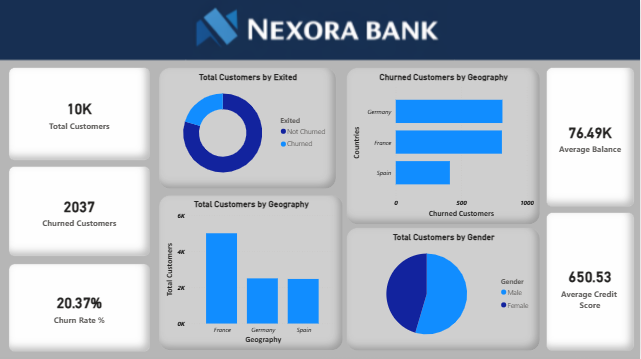

The page's visual inventory and layout, read from the dashboard file:
{"tool":"powerbi","page":{"name":"Overview","canvas":[1280,720],"ordinal":0},"visuals":[{"type":"card","fields":{"Values":["Nexora_Bank_Churn_Cleaned.Total Customers"]},"box":[16.5,135.8,282.7,185.2],"z":0},{"type":"card","fields":{"Values":["Nexora_Bank_Churn_Cleaned.Churned Customers"]},"box":[16.5,333.4,282.7,179.8],"z":1000},{"type":"card","fields":{"Values":["Nexora_Bank_Churn_Cleaned.Churn Rate"]},"box":[16.5,526.9,282.7,175.6],"z":2000},{"type":"card","fields":{"Values":["Nexora_Bank_Churn_Cleaned.Average Credit Score"]},"box":[1093.7,425.4,175.6,277.2],"z":3000},{"type":"card","fields":{"Values":["Nexora_Bank_Churn_Cleaned.Average Balance"]},"box":[1093.7,135.8,175.6,278.6],"z":4000},{"type":"donutChart","fields":{"Y":["Nexora_Bank_Churn_Cleaned.Total Customers"],"Category":["Nexora_Bank_Churn_Cleaned.Exited"]},"box":[318.4,135.8,355.4,242.9],"z":5000},{"type":"clusteredColumnChart","fields":{"Y":["Nexora_Bank_Churn_Cleaned.Total Customers"],"Category":["Nexora_Bank_Churn_Cleaned.Geography"]},"box":[318.4,391.1,369.1,311.5],"z":6000},{"type":"clusteredBarChart","fields":{"Category":["Nexora_Bank_Churn_Cleaned.Geography"],"Y":["Nexora_Bank_Churn_Cleaned.Churned Customers"]},"box":[693,135.8,388.3,314.2],"z":7000},{"type":"pieChart","fields":{"Y":["Nexora_Bank_Churn_Cleaned.Total Customers"],"Category":["Nexora_Bank_Churn_Cleaned.Gender"]},"box":[693,455.6,388.3,247],"z":8000}]}

Visuals, with their boxes in screenshot pixels (x1, y1, x2, y2), scaled from the page's 1280x720 canvas onto the 641x359 screenshot:
card - Nexora_Bank_Churn_Cleaned.Total Customers: box(8, 68, 150, 160)
card - Nexora_Bank_Churn_Cleaned.Churned Customers: box(8, 166, 150, 256)
card - Nexora_Bank_Churn_Cleaned.Churn Rate: box(8, 263, 150, 350)
card - Nexora_Bank_Churn_Cleaned.Average Credit Score: box(548, 212, 636, 350)
card - Nexora_Bank_Churn_Cleaned.Average Balance: box(548, 68, 636, 207)
donutChart - Nexora_Bank_Churn_Cleaned.Total Customers x Nexora_Bank_Churn_Cleaned.Exited: box(159, 68, 337, 189)
clusteredColumnChart - Nexora_Bank_Churn_Cleaned.Total Customers x Nexora_Bank_Churn_Cleaned.Geography: box(159, 195, 344, 350)
clusteredBarChart - Nexora_Bank_Churn_Cleaned.Geography x Nexora_Bank_Churn_Cleaned.Churned Customers: box(347, 68, 541, 224)
pieChart - Nexora_Bank_Churn_Cleaned.Total Customers x Nexora_Bank_Churn_Cleaned.Gender: box(347, 227, 541, 350)
